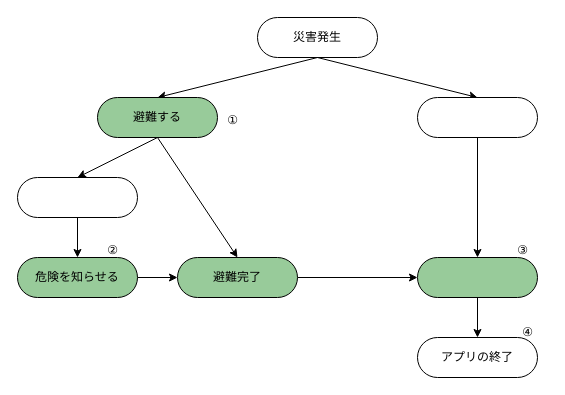
This 565x395 diagram has some shape labels left out. Each missing label, with the box of its shape:
危険箇所を発見: (16, 176, 138, 218)
安否を知らせる: (416, 256, 538, 298)
自宅に留まる: (416, 96, 538, 138)
